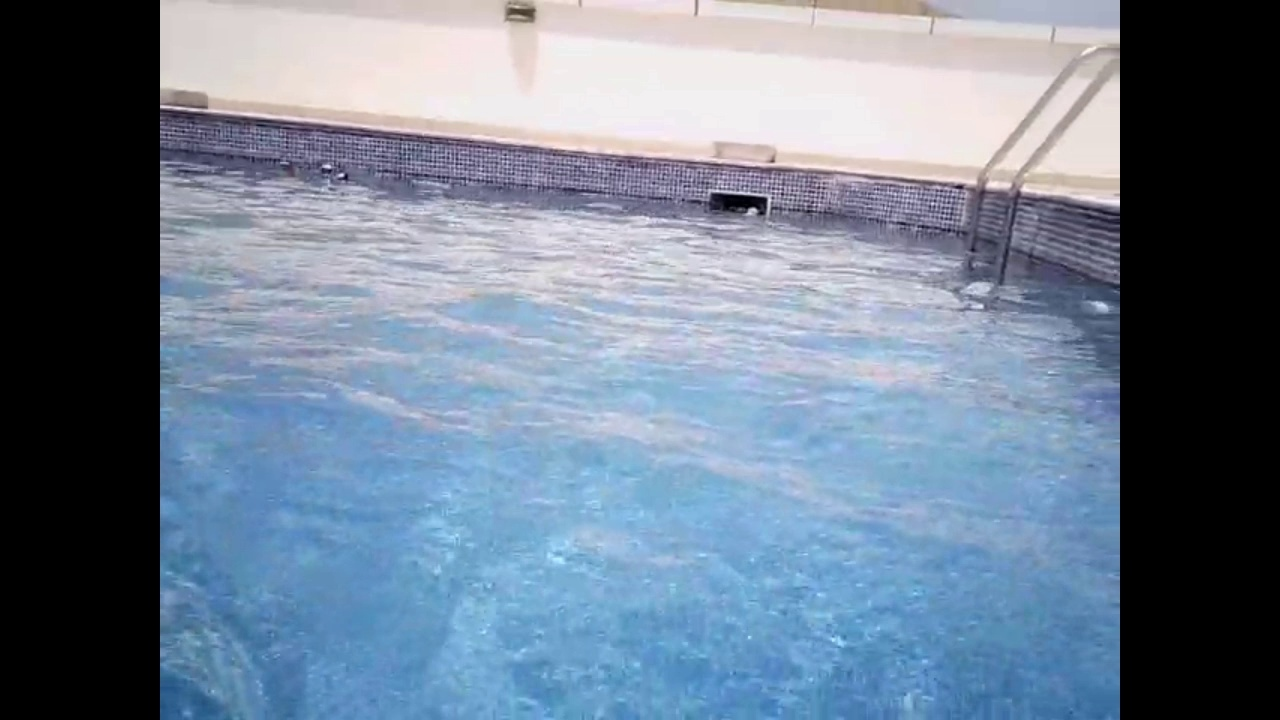debris: (274, 155, 295, 174), (738, 204, 760, 220), (314, 161, 334, 177), (330, 168, 349, 184)
